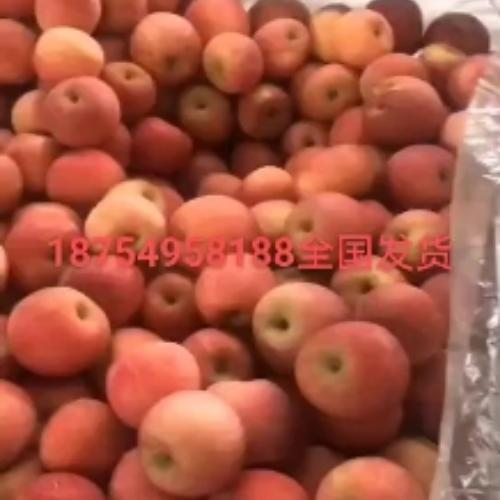apple: (139, 386, 248, 494), (291, 321, 412, 414), (7, 287, 113, 378), (253, 280, 345, 371), (280, 191, 368, 265), (195, 252, 276, 325), (42, 75, 122, 145), (128, 10, 201, 85), (381, 142, 454, 210), (180, 329, 255, 388), (140, 269, 202, 340), (200, 31, 263, 93), (178, 82, 238, 147), (331, 6, 394, 66), (253, 17, 312, 77), (292, 66, 357, 119), (234, 86, 292, 141), (101, 61, 155, 117)
